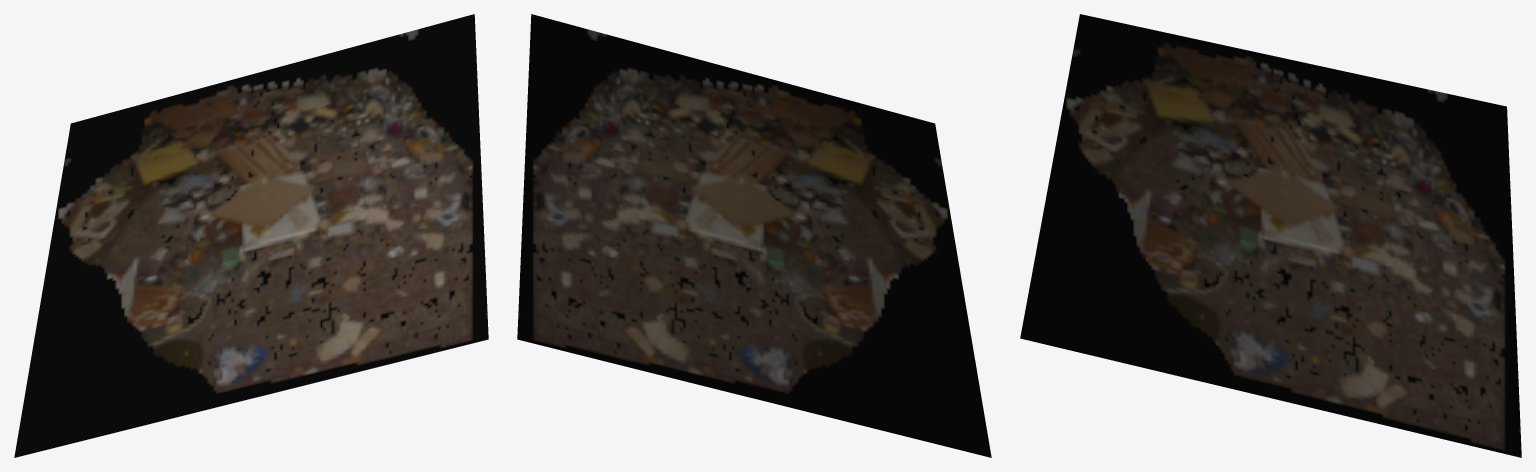
File: hall_trash_4.FBX
The picture shows the model from 3 angles, left to right: view 1: azimuth 30°, elevation 25°; view 2: azimuth 150°, elevation 25°; view 3: azimuth 330°, elevation 25°; orthographic projection. The views are drawn at different scales.
Parts seen in each view (by area): view 1: trash_2; view 2: trash_2; view 3: trash_2.
Boxes of the visible parts, x1=… form: trash_2: x1=14, y1=14, x2=488, y2=457; trash_2: x1=517, y1=14, x2=991, y2=457; trash_2: x1=1020, y1=14, x2=1521, y2=457.
Bounding box in the file's own units: 23.72 × 15.85 × 5.07e-06.
